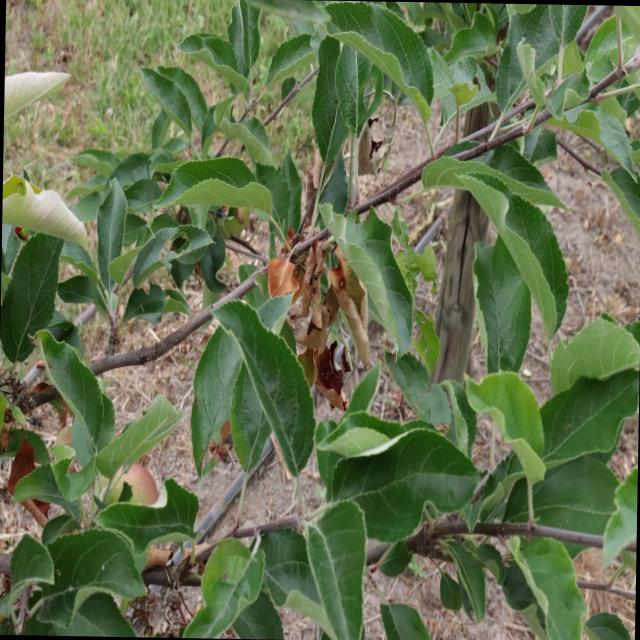-FireBlight-: (268, 240, 374, 402)
